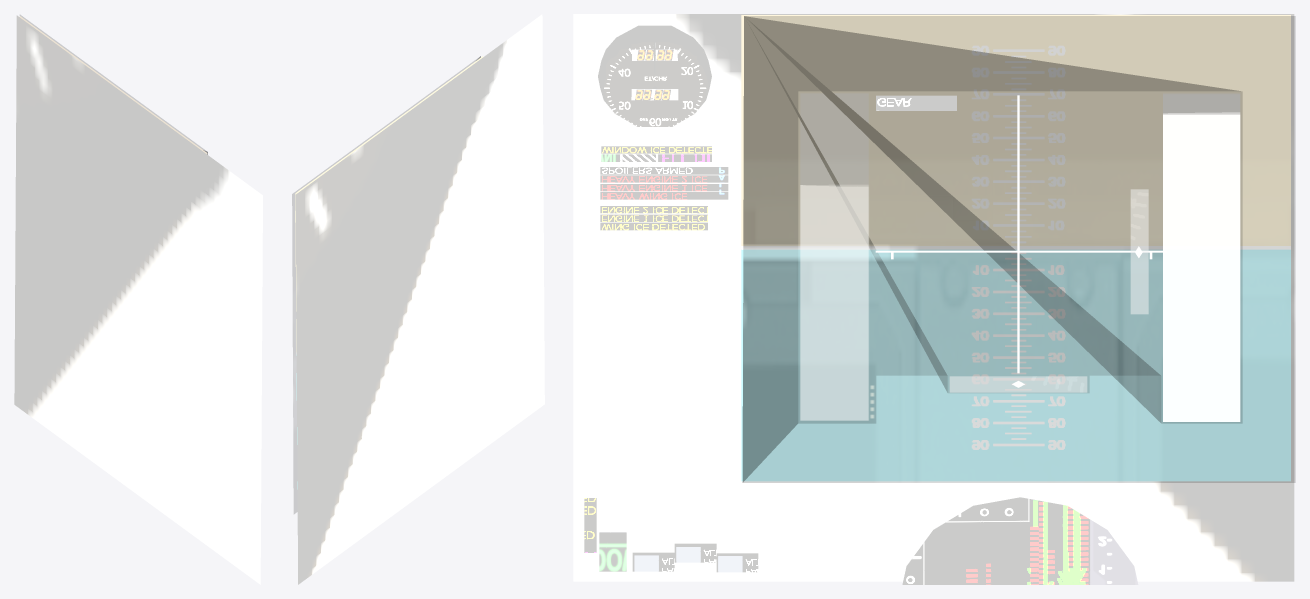
Rendered from pfd.glb.
3 renders of one model, left to right at view 1: azimuth 30°, elevation 25°; view 2: azimuth 150°, elevation 25°; view 3: azimuth 270°, elevation 25°, orthographic. The views are drawn at different scales.
Parts seen in each view (by area): view 1: box, horizon; view 2: box, pfd, horizon; view 3: horizon, pfd, box, Alt2, ASI, Alt3, Hsi, Plane.001, Alt6, Alt1, flaps, gsscale (+7 smaller).
Boxes of the visible parts, left/top/right/bottom form: box: left=14, top=15, right=262, bottom=584; horizon: left=19, top=16, right=207, bottom=154; box: left=295, top=14, right=544, bottom=584; pfd: left=292, top=56, right=480, bottom=513; horizon: left=295, top=56, right=483, bottom=489; horizon: left=741, top=15, right=1290, bottom=481; pfd: left=742, top=16, right=1294, bottom=482; box: left=573, top=14, right=1294, bottom=581; Alt2: left=1163, top=94, right=1240, bottom=421; ASI: left=800, top=93, right=873, bottom=420; Alt3: left=1163, top=95, right=1239, bottom=421; Hsi: left=902, top=497, right=1138, bottom=584; Plane.001: left=598, top=25, right=711, bottom=126; Alt6: left=1163, top=93, right=1240, bottom=420; Alt1: left=1163, top=94, right=1240, bottom=413; flaps: left=599, top=476, right=626, bottom=571; gsscale: left=1130, top=189, right=1148, bottom=314.
Size of the model in its own units: 0.00625 by 0.303 by 0.3483.
11 materials, 9 textured.
